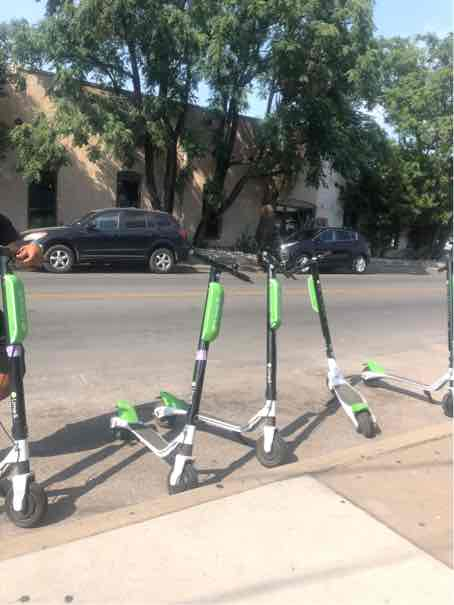scooter: (164, 242, 287, 497), (253, 250, 362, 478)
